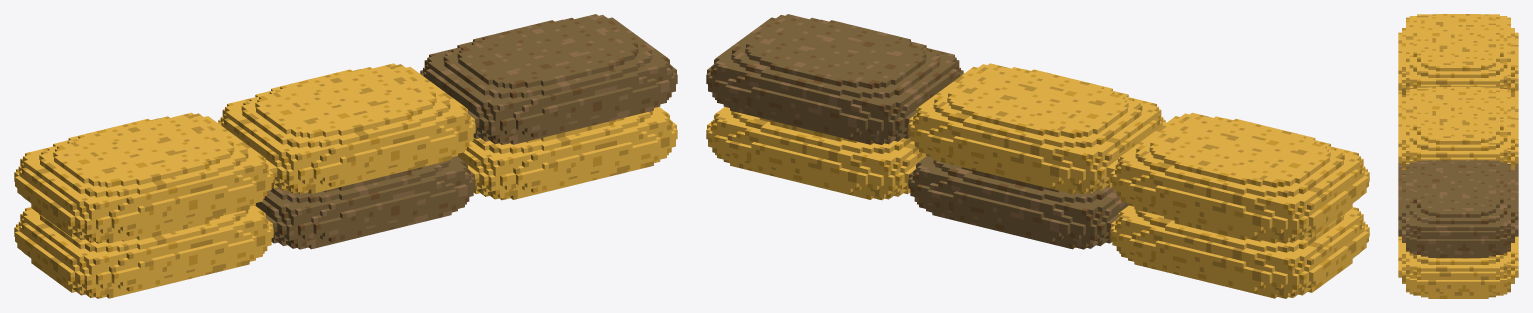
Rendered from sandboxes-0.obj.
The picture shows the model from 3 angles, left to right: view 1: azimuth 30°, elevation 25°; view 2: azimuth 150°, elevation 25°; view 3: azimuth 270°, elevation 25°; orthographic projection. The views are drawn at different scales.
Size of the model in its own units: 13.8 by 2.4 by 3.2.
1 material, 1 textured.
